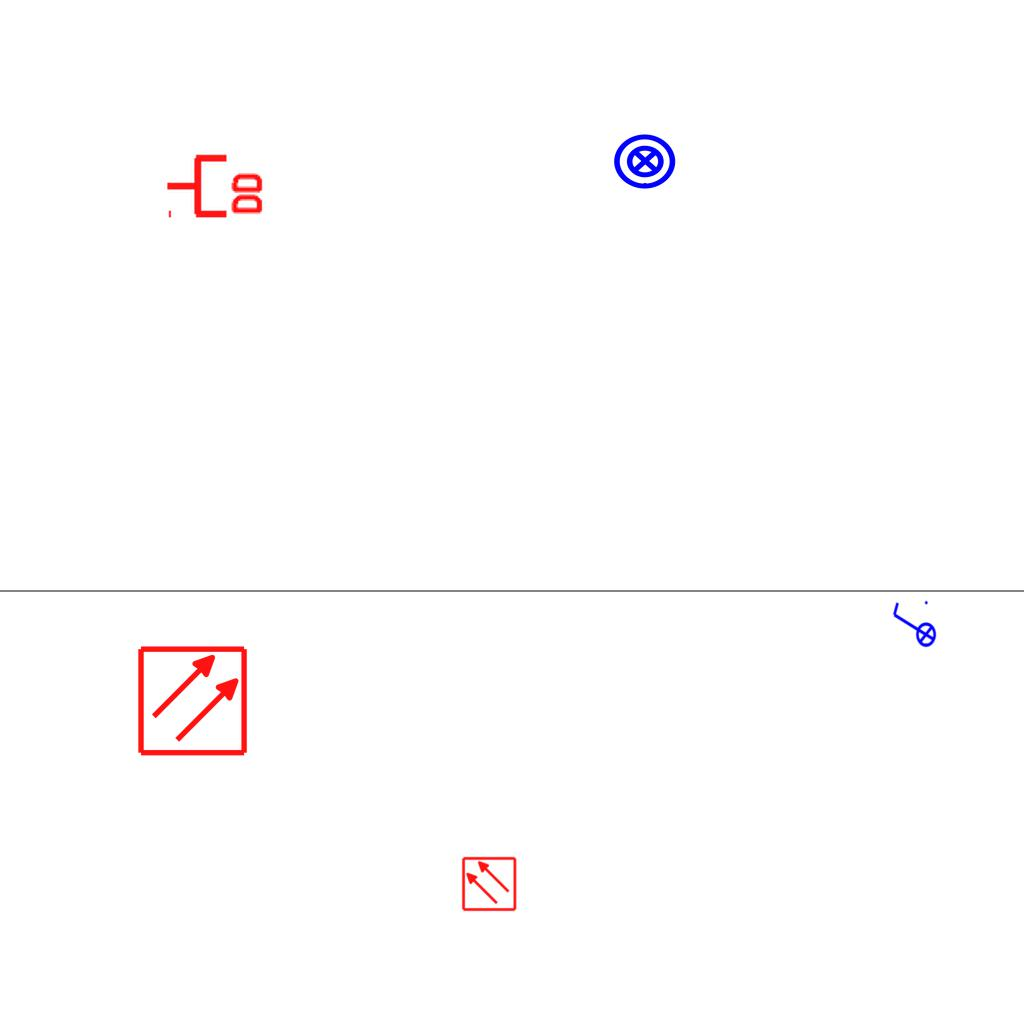Ausschalter_beleuchtet: (889, 598, 937, 654)
Datenanschluss_zweifach: (164, 150, 267, 219)
RMO_Rauchmelder_optischer: (136, 644, 249, 757), (461, 856, 517, 912)
Taster_beleuchtet: (612, 128, 678, 194)
